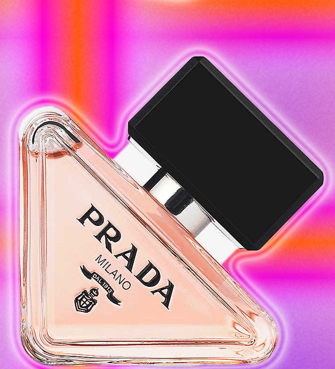prada_paradoxe: (13, 50, 326, 368)
